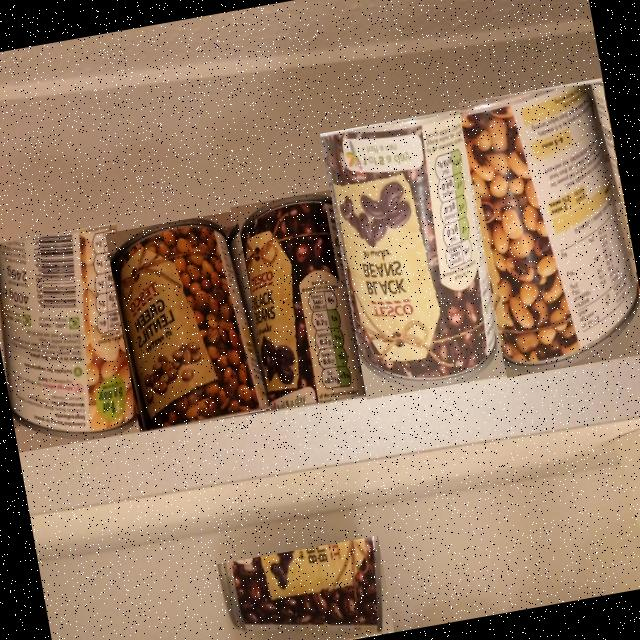Food Can: (459, 85, 640, 373), (325, 107, 498, 387), (110, 219, 270, 430), (0, 224, 140, 439), (240, 195, 371, 410), (217, 536, 383, 633)
